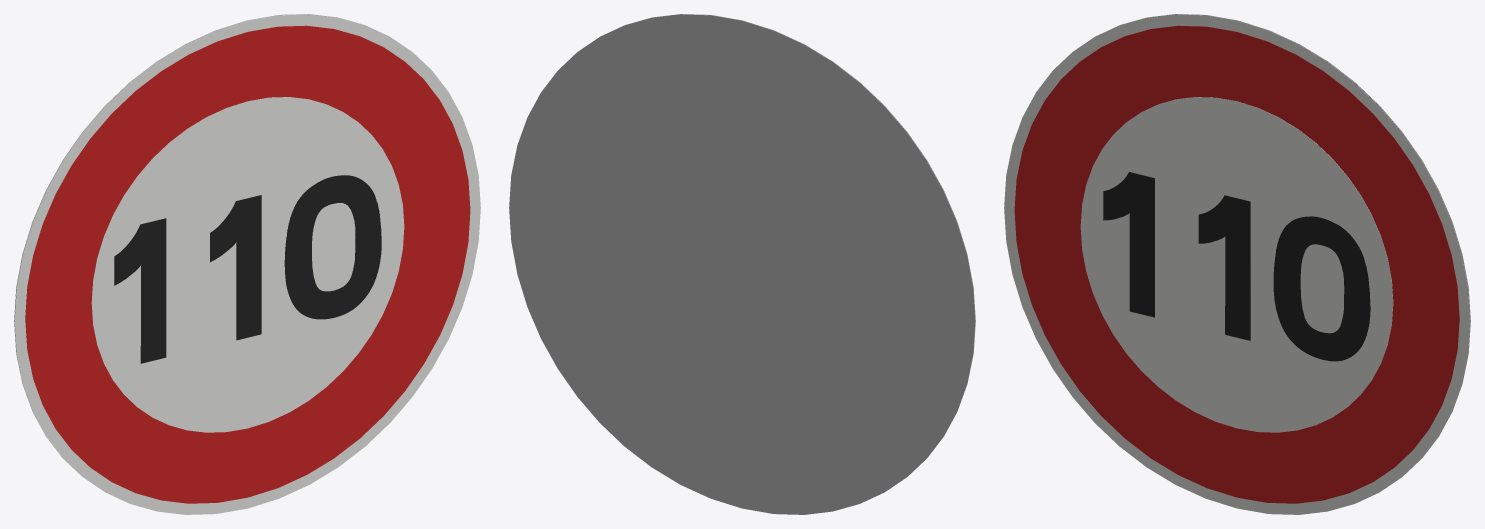
3 views of the same model, side by side, from view 1: azimuth 30°, elevation 25°; view 2: azimuth 150°, elevation 25°; view 3: azimuth 330°, elevation 25° (orthographic).
Visible parts, largest first — view 1: B14-110_p01, B14-110_p02, B14-110_p03, B14-110_p00, B14-110_dos; view 2: B14-110_dos, B14-110_p00; view 3: B14-110_p01, B14-110_p02, B14-110_p03, B14-110_p00, B14-110_dos.
Boxes of the visible parts, box(x1,y1,x2,y2) form: B14-110_p01: box(25, 25, 470, 503); B14-110_p02: box(91, 97, 404, 432); B14-110_p03: box(114, 175, 381, 363); B14-110_p00: box(14, 14, 480, 514); B14-110_dos: box(14, 14, 385, 473); B14-110_dos: box(509, 14, 975, 514); B14-110_p00: box(604, 14, 975, 473); B14-110_p01: box(1014, 25, 1459, 503); B14-110_p02: box(1080, 97, 1393, 432); B14-110_p03: box(1103, 172, 1370, 361); B14-110_p00: box(1004, 14, 1470, 514); B14-110_dos: box(1099, 14, 1470, 473).
Bounding box in the file's own units: 0.85 × 0.8498 × 0.0031.
